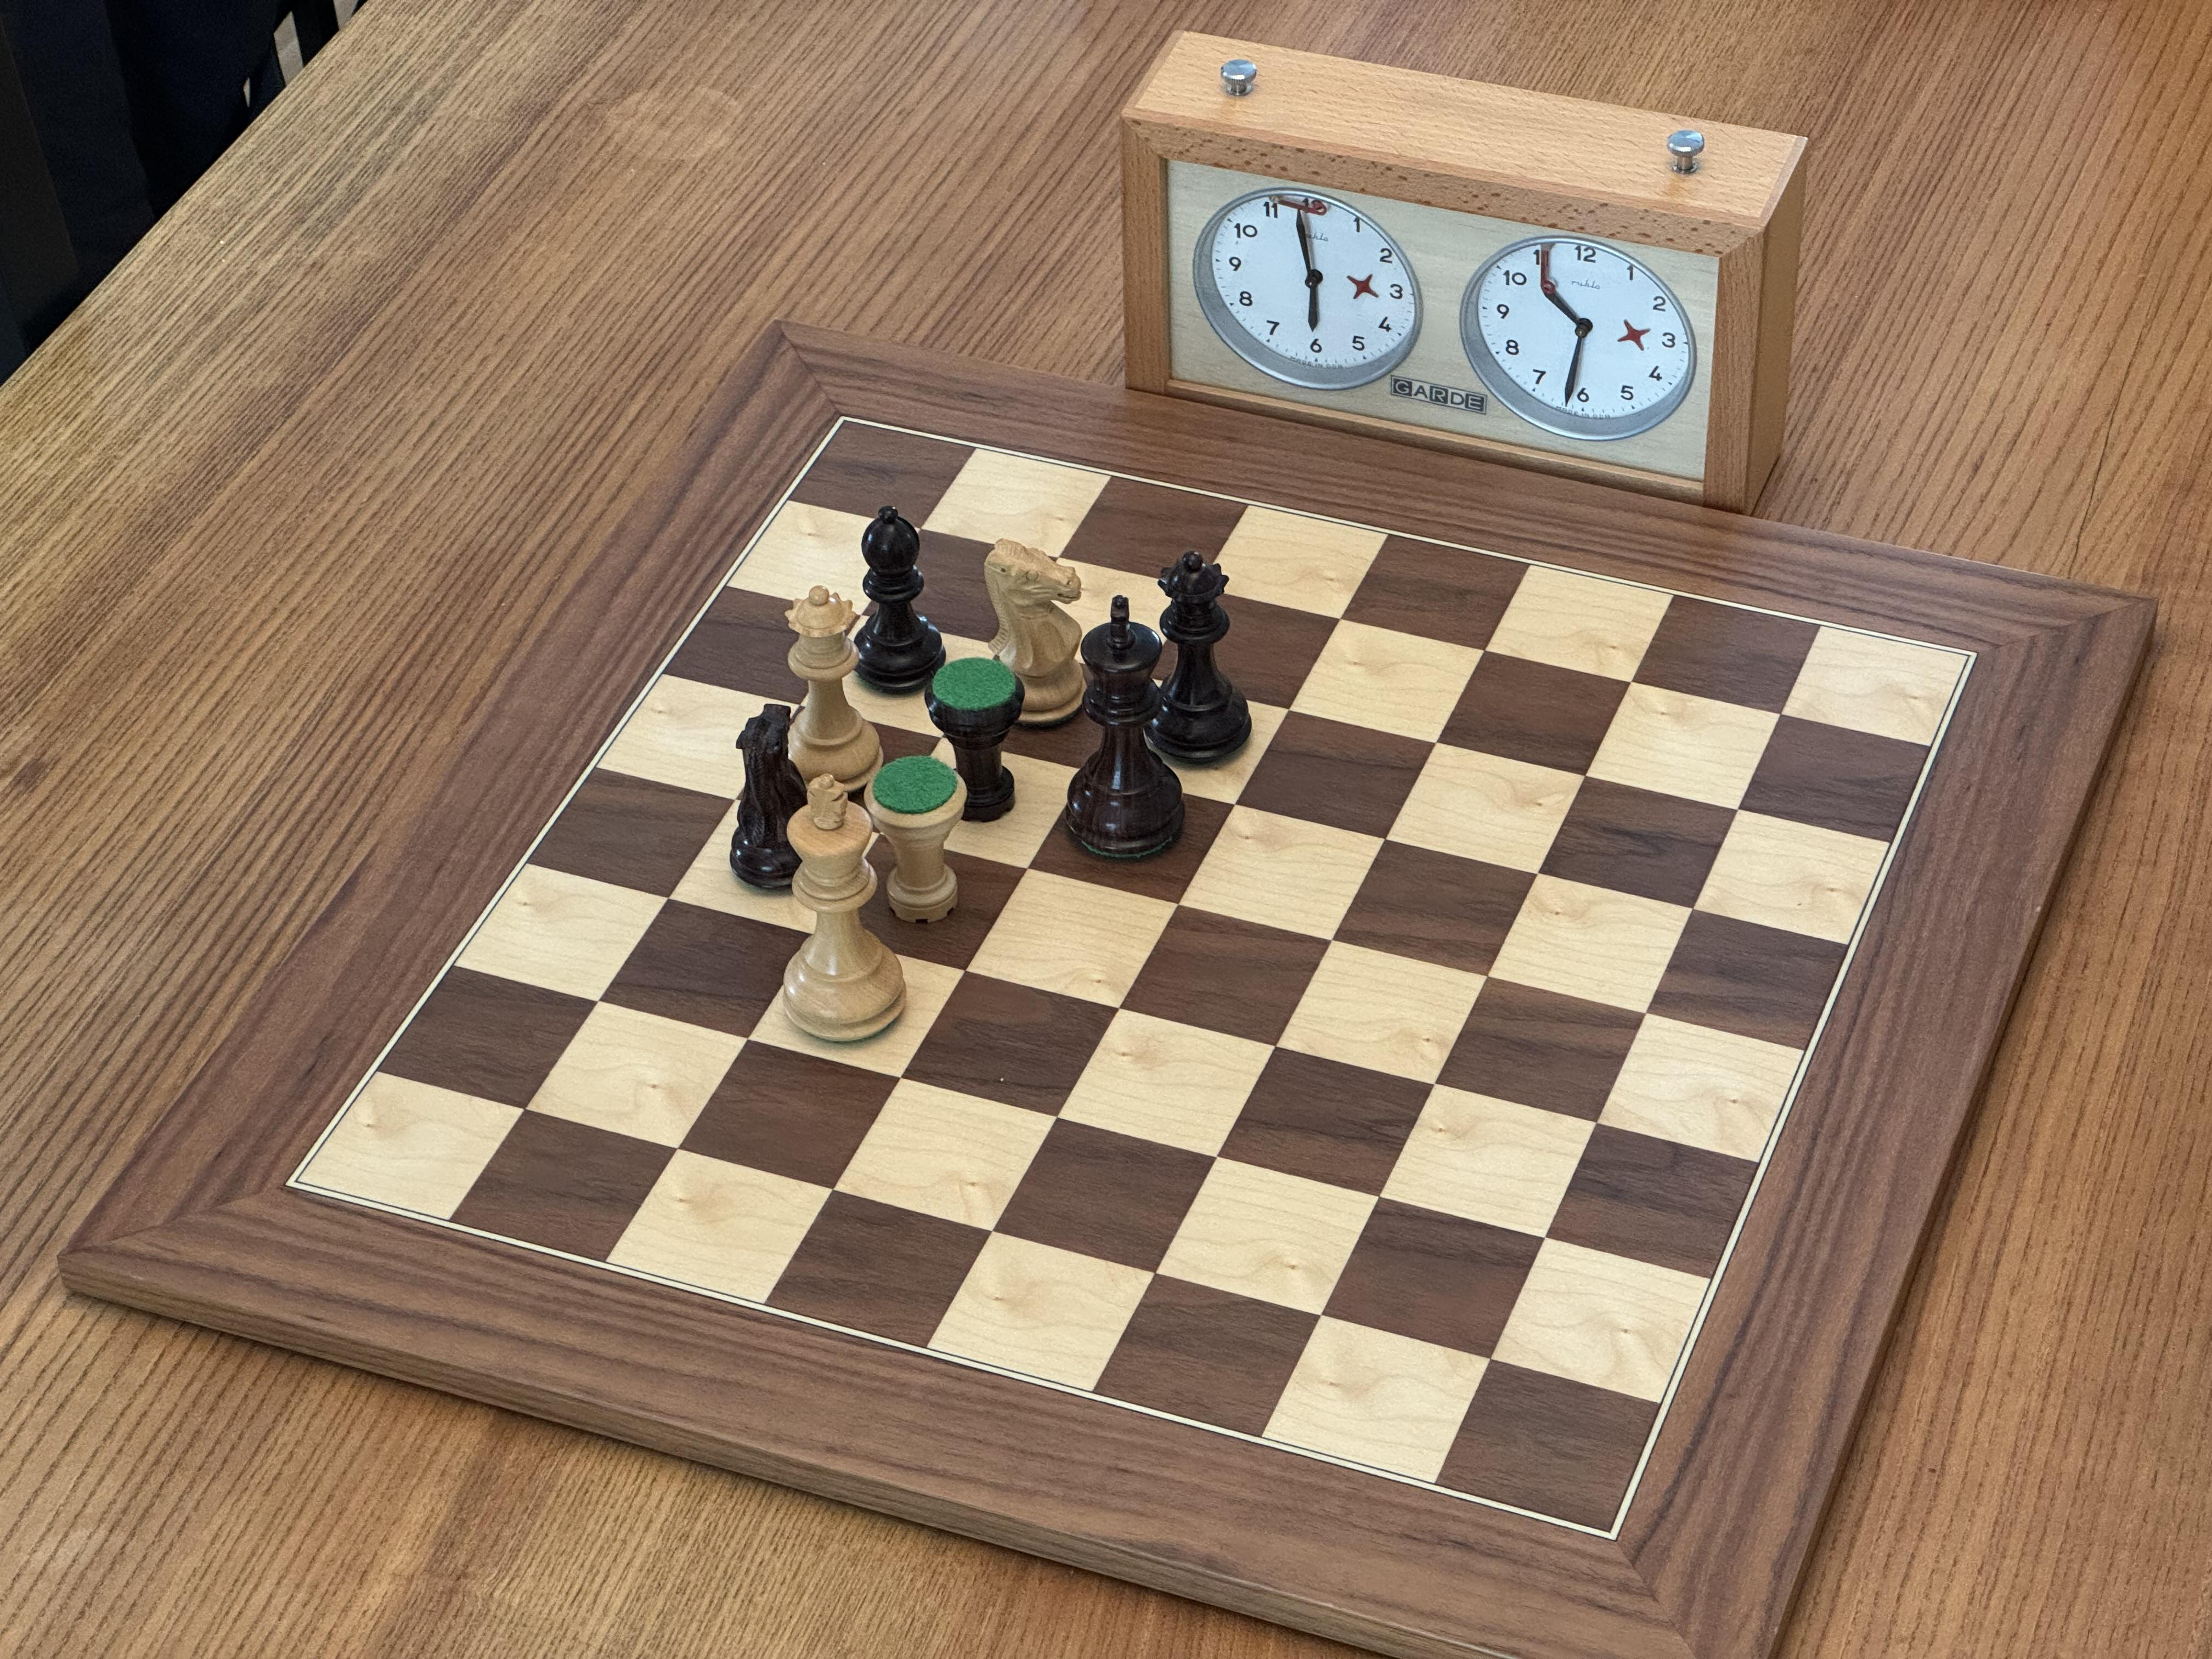Black Extra Queen: (920, 653, 1029, 826)
White Extra Queen: (860, 753, 970, 925)
